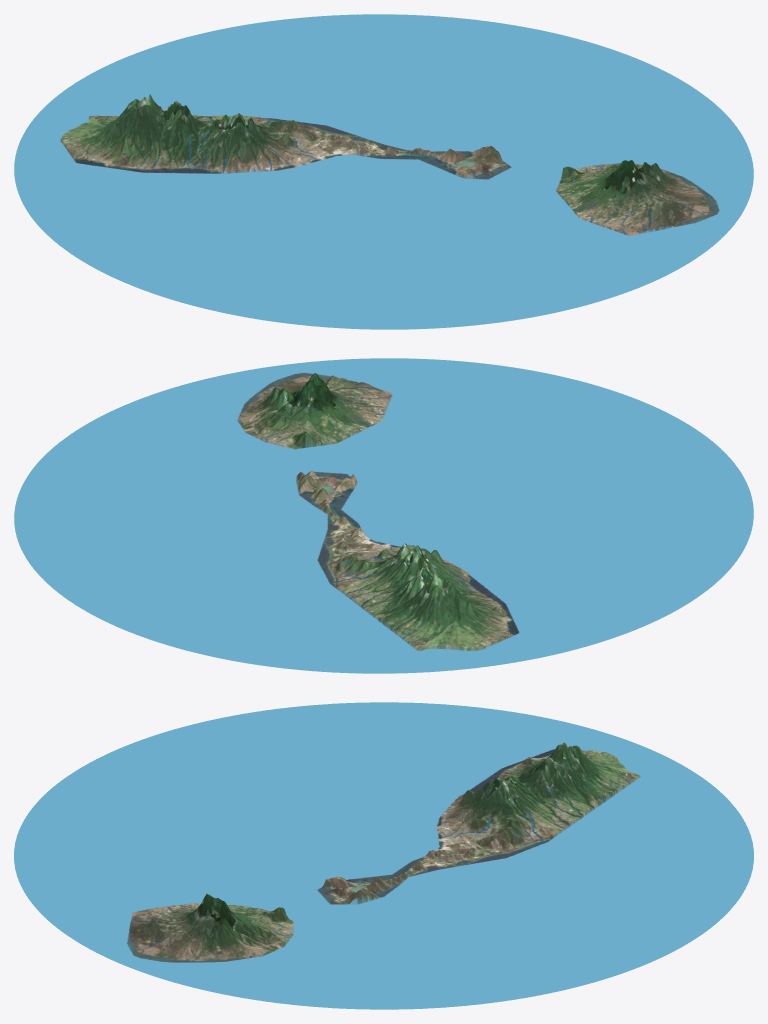
Rendered from KNA-previa-terrain.glb.
3 renders of one model, top to bottom at view 1: azimuth 30°, elevation 25°; view 2: azimuth 150°, elevation 25°; view 3: azimuth 270°, elevation 25°, orthographic.
Parts seen in each view (by area): view 1: São Cristóvão e Nevis; view 2: São Cristóvão e Nevis; view 3: São Cristóvão e Nevis.
Boxes of the visible parts, box(x1,y1,x2,y2) form: São Cristóvão e Nevis: box(14, 14, 753, 329); São Cristóvão e Nevis: box(14, 358, 753, 673); São Cristóvão e Nevis: box(14, 702, 753, 1009).
Size of the model in its own units: 2.48 by 0.1693 by 2.53.
Materials: 1 (1 with a texture image).
